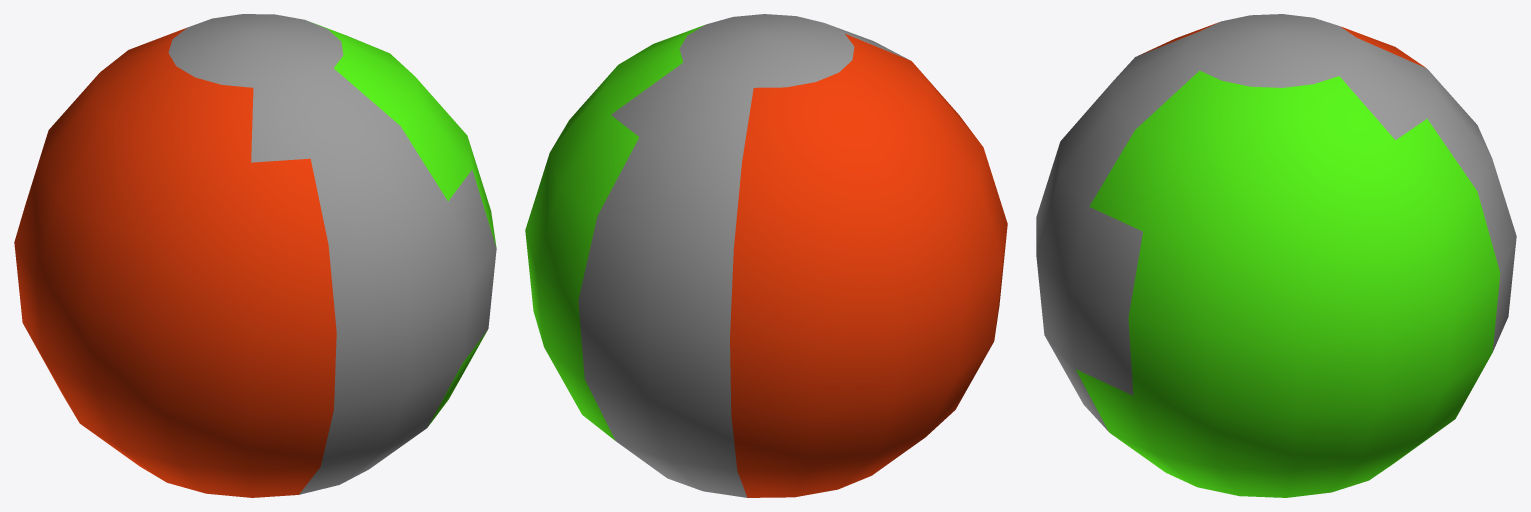
File: testball.FBX
3 views of the same model, side by side, from view 1: azimuth 30°, elevation 25°; view 2: azimuth 150°, elevation 25°; view 3: azimuth 270°, elevation 25° (orthographic).
Visible parts, largest first — view 1: Sphere001; view 2: Sphere001; view 3: Sphere001.
Part boxes in pixels (x1,y1,x2,y2): Sphere001: (14,14,496,497); Sphere001: (525,14,1007,497); Sphere001: (1036,14,1516,497).
Bounding box in the file's own units: 25.78 × 26 × 25.67.
